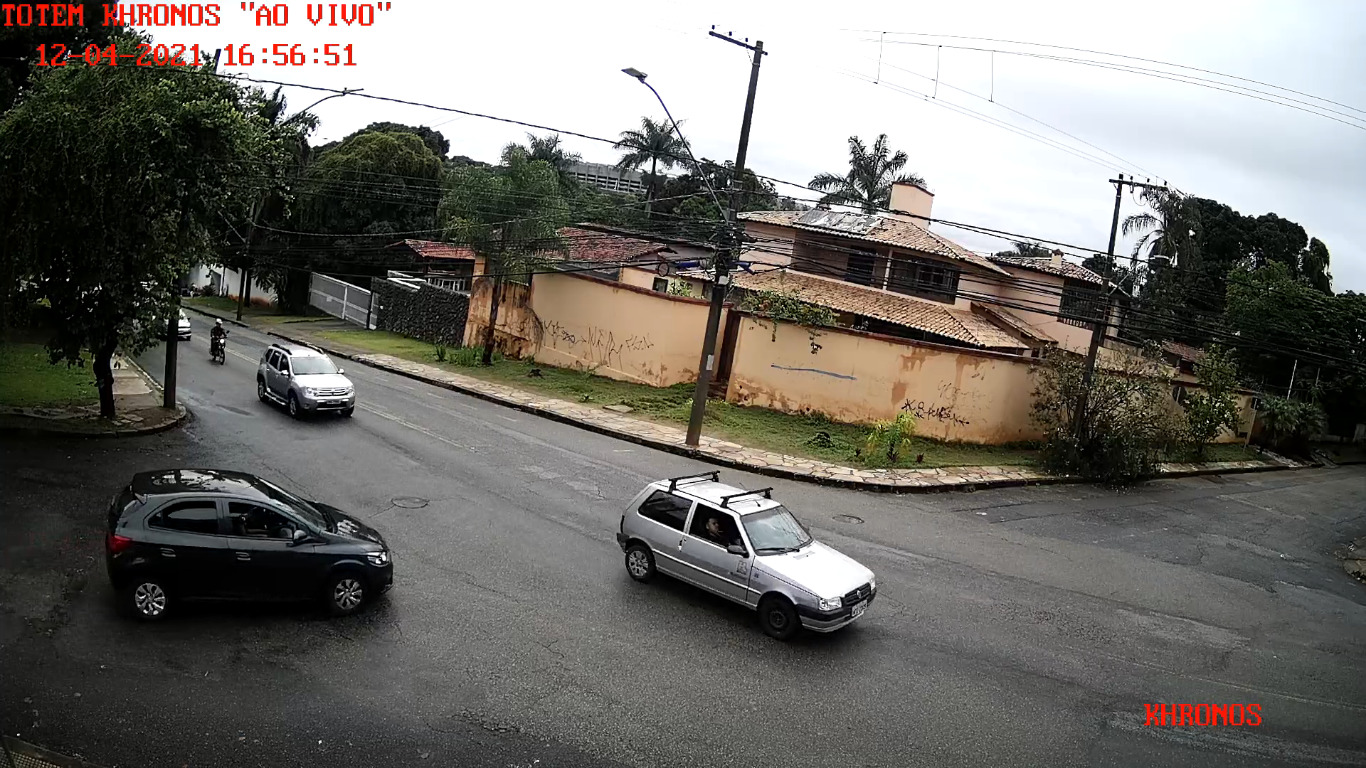car: (105, 468, 393, 622), (618, 475, 878, 642), (256, 342, 355, 421)
